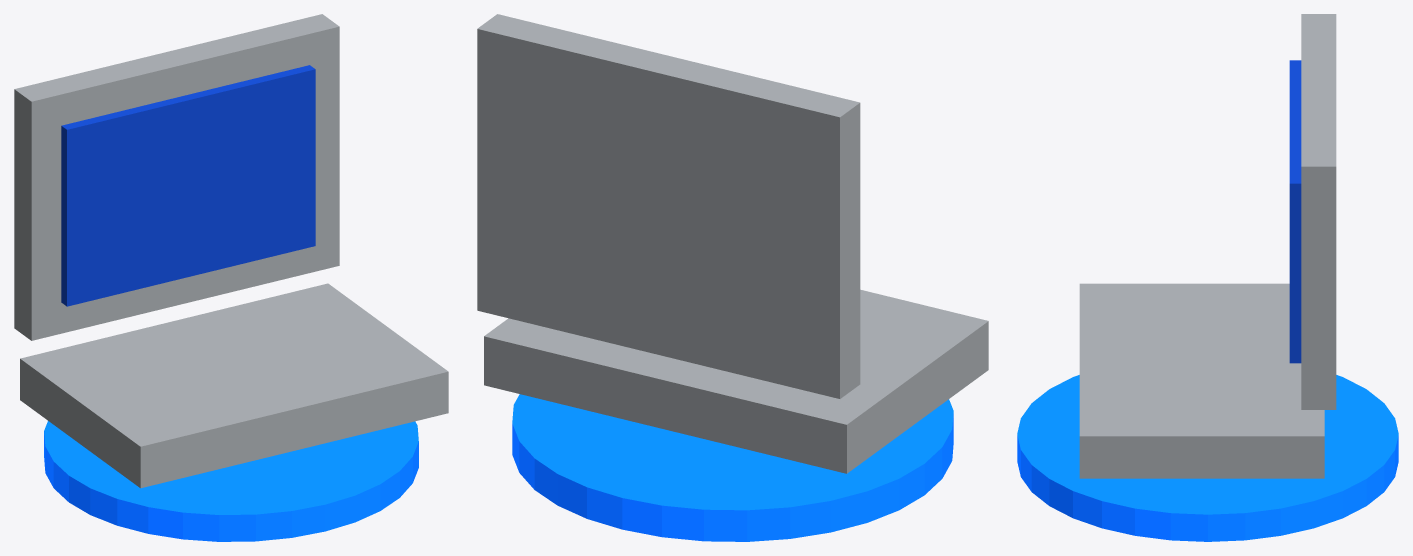
File: news_news_laptop.dae
The picture shows the model from 3 angles, left to right: view 1: azimuth 30°, elevation 25°; view 2: azimuth 150°, elevation 25°; view 3: azimuth 270°, elevation 25°; orthographic projection. The views are drawn at different scales.
Visible parts, largest first — view 1: 09_11_Popular_News_News_Laptop_part_01, 09_11_Popular_News_News_Laptop_part_03, 09_11_Popular_News_News_Laptop_part_02, 09_11_Popular_News_News_Laptop_ROOT_base; view 2: 09_11_Popular_News_News_Laptop_part_02, 09_11_Popular_News_News_Laptop_part_01, 09_11_Popular_News_News_Laptop_ROOT_base; view 3: 09_11_Popular_News_News_Laptop_part_01, 09_11_Popular_News_News_Laptop_ROOT_base, 09_11_Popular_News_News_Laptop_part_02, 09_11_Popular_News_News_Laptop_part_03.
Boxes of the visible parts, <box> form: 09_11_Popular_News_News_Laptop_part_01: <box>20,283,448,488</box>; 09_11_Popular_News_News_Laptop_part_03: <box>61,65,315,306</box>; 09_11_Popular_News_News_Laptop_part_02: <box>14,14,339,340</box>; 09_11_Popular_News_News_Laptop_ROOT_base: <box>44,421,418,541</box>; 09_11_Popular_News_News_Laptop_part_02: <box>477,14,860,398</box>; 09_11_Popular_News_News_Laptop_part_01: <box>484,289,988,473</box>; 09_11_Popular_News_News_Laptop_ROOT_base: <box>512,394,953,541</box>; 09_11_Popular_News_News_Laptop_part_01: <box>1079,283,1324,478</box>; 09_11_Popular_News_News_Laptop_ROOT_base: <box>1017,375,1398,541</box>; 09_11_Popular_News_News_Laptop_part_02: <box>1301,14,1336,409</box>; 09_11_Popular_News_News_Laptop_part_03: <box>1289,60,1301,363</box>.
Bounding box in the file's own units: 0.76 × 0.8152 × 0.76.
